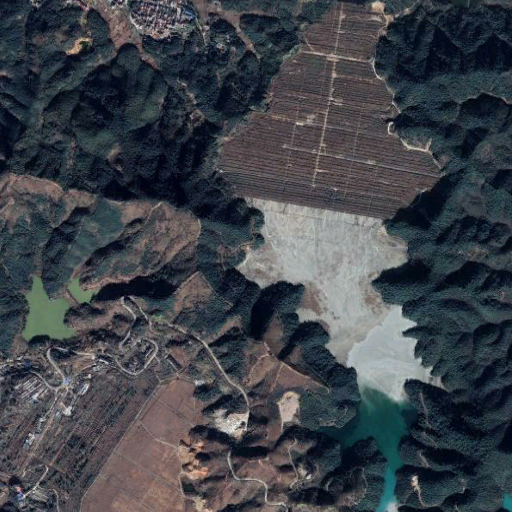tp: (217, 21, 450, 512)
